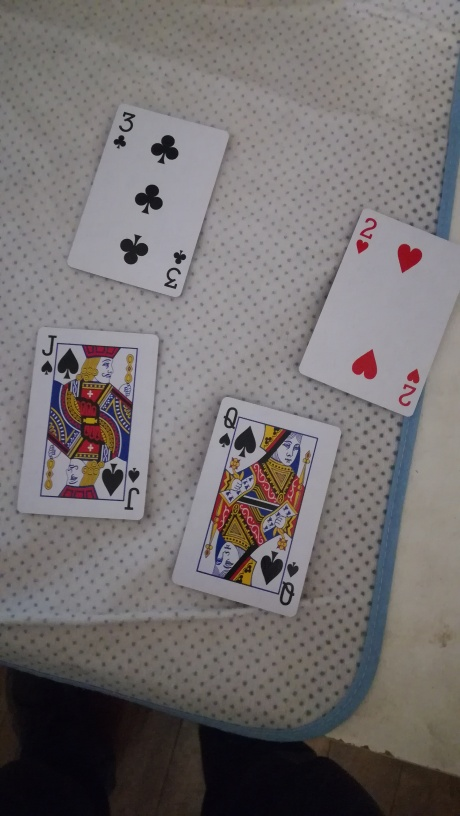ht j: (18, 321, 160, 521)
ht q: (161, 392, 351, 629)
hx 2: (297, 191, 458, 416)
mh 3: (60, 90, 233, 311)
